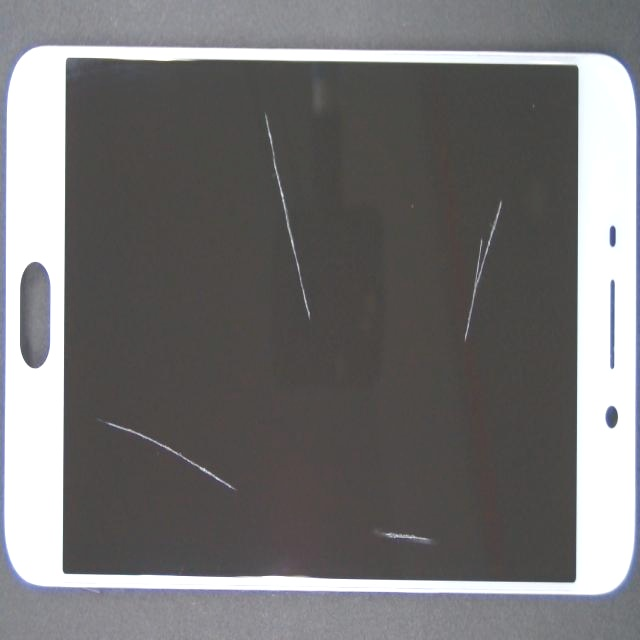scratch: (257, 270, 634, 640), (277, 26, 640, 314), (168, 198, 474, 431), (195, 278, 298, 640)
